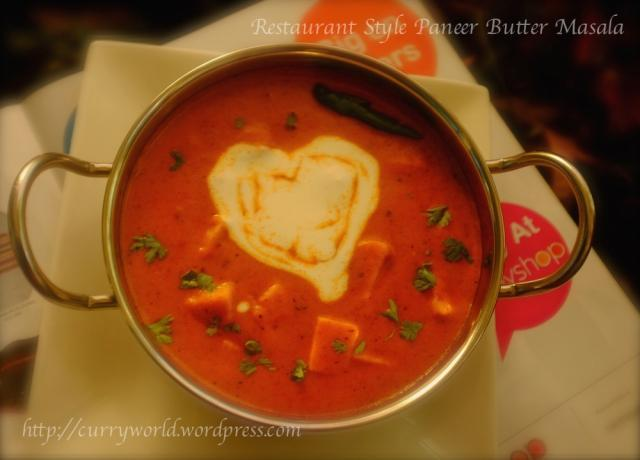paneer: (163, 149, 371, 348)
